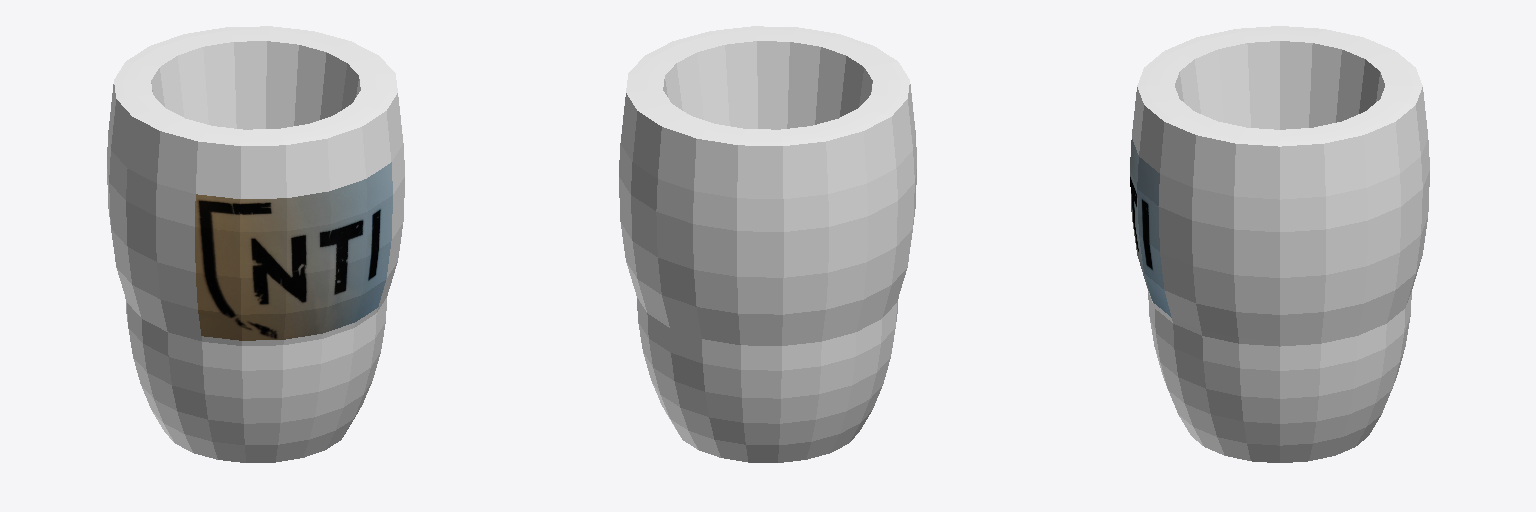
The picture shows the model from 3 angles: view 1: azimuth 30°, elevation 25°; view 2: azimuth 150°, elevation 25°; view 3: azimuth 270°, elevation 25°; orthographic projection.
Visible parts, largest first — view 1: polySurface4; view 2: polySurface4; view 3: polySurface4.
Part boxes in pixels (x1,y1,x2,y2): polySurface4: (107, 26, 404, 462); polySurface4: (619, 26, 916, 462); polySurface4: (1130, 26, 1429, 462).
Bounding box in the file's own units: 2.27 × 2.85 × 2.27.
2 materials, 1 textured.